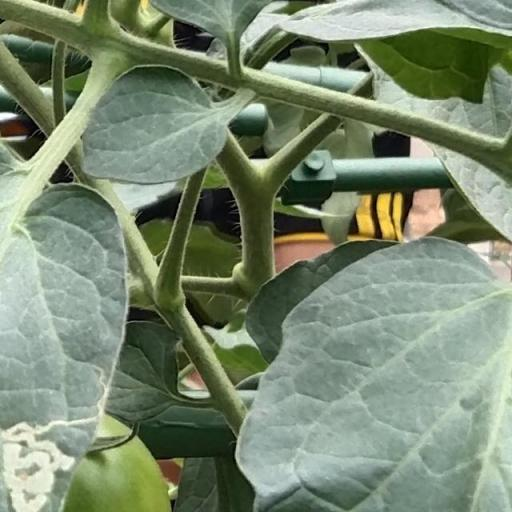Healthy: (234, 232, 512, 512), (79, 61, 232, 187)
Leaf_Miner: (0, 138, 127, 512)
